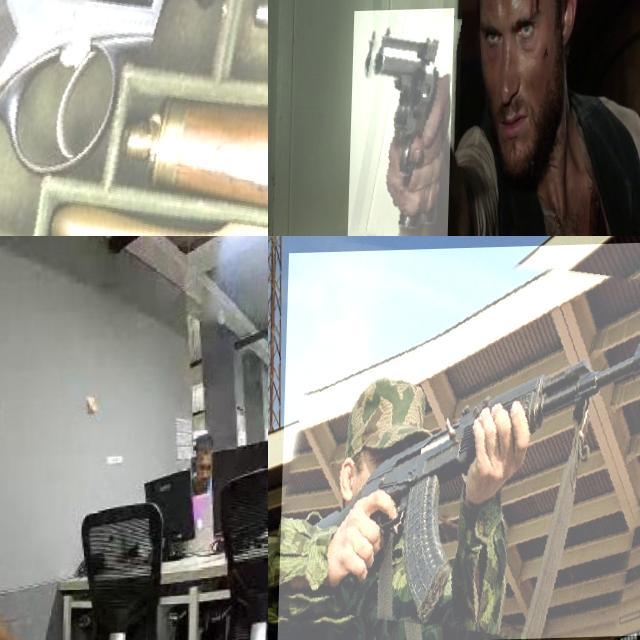gun-knife-thesis - v11 Yolov5 augmented: (280, 245, 640, 640), (0, 0, 268, 236), (350, 10, 455, 236)
